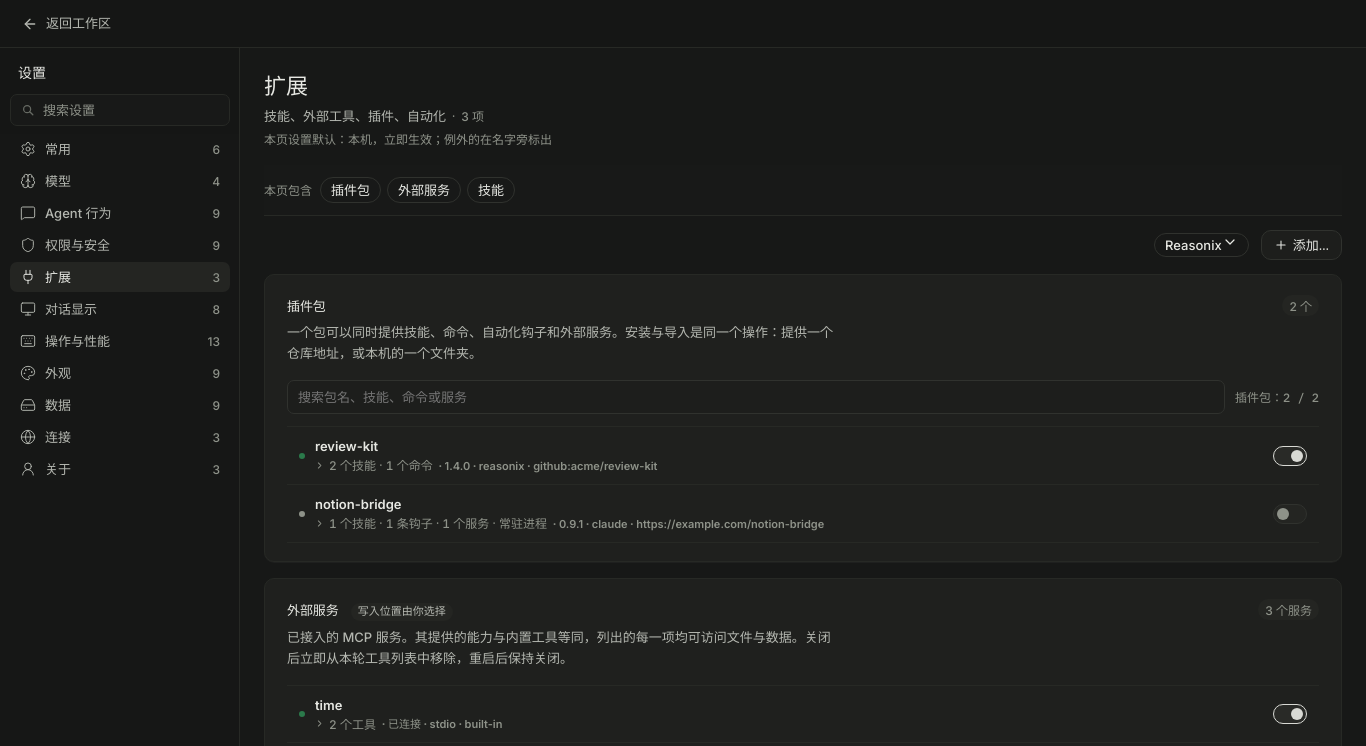
Scenario: allows Escape to dismiss a new-install form and still notifies Settings on completion
Click the button "添加…" at {"x": 1301, "y": 245}, box [1261,230,1342,260]
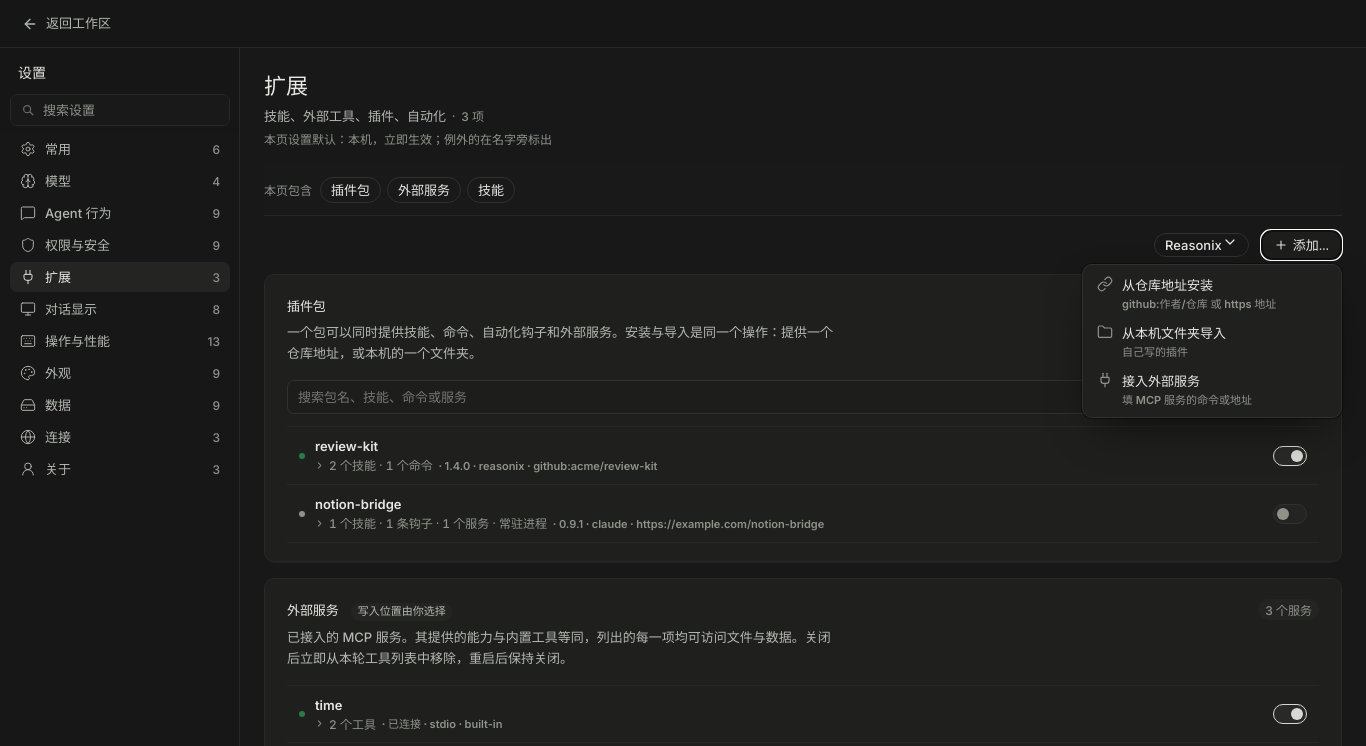
Click the menu item "从仓库地址安装 github:作者/仓库 或 https 地址" at {"x": 1212, "y": 293}, box [1087,269,1337,317]
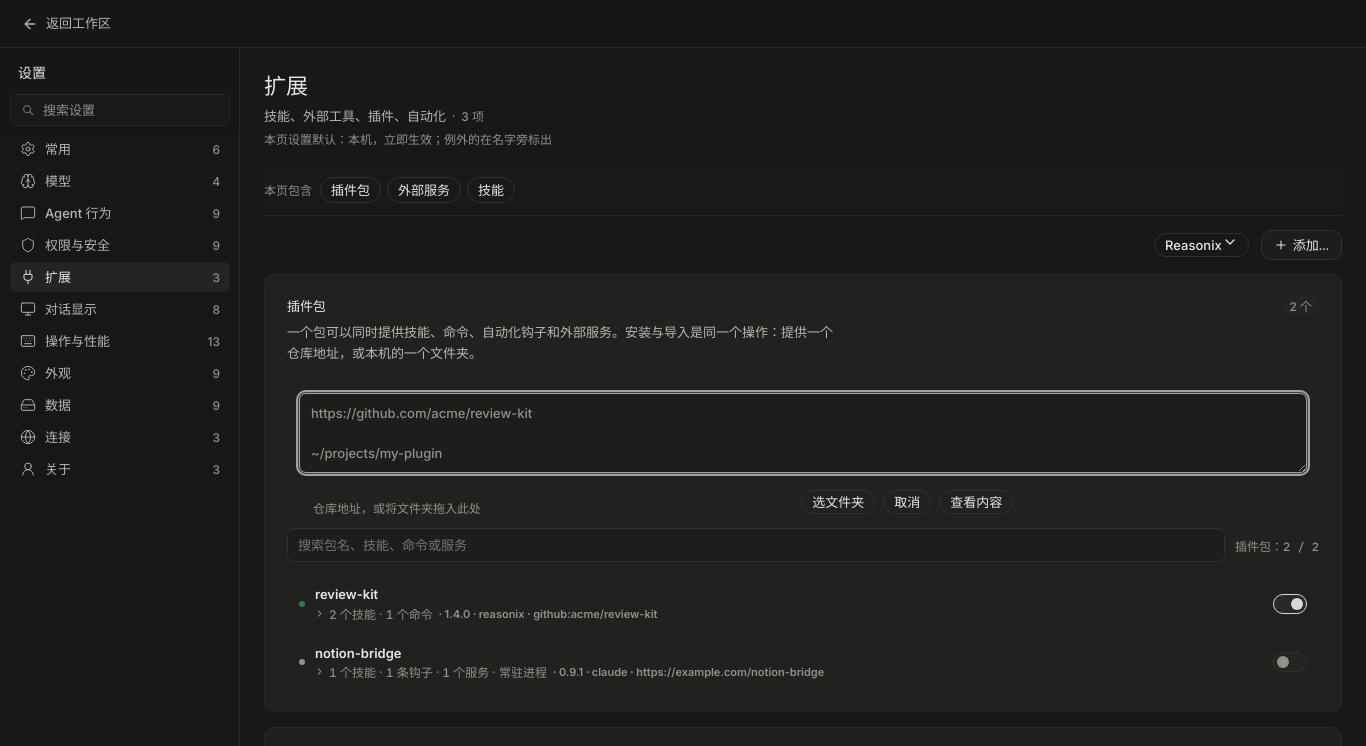
Type "https://github.com/demo/notes-kit" into the text box at {"x": 803, "y": 433}, box [299,393,1307,473]
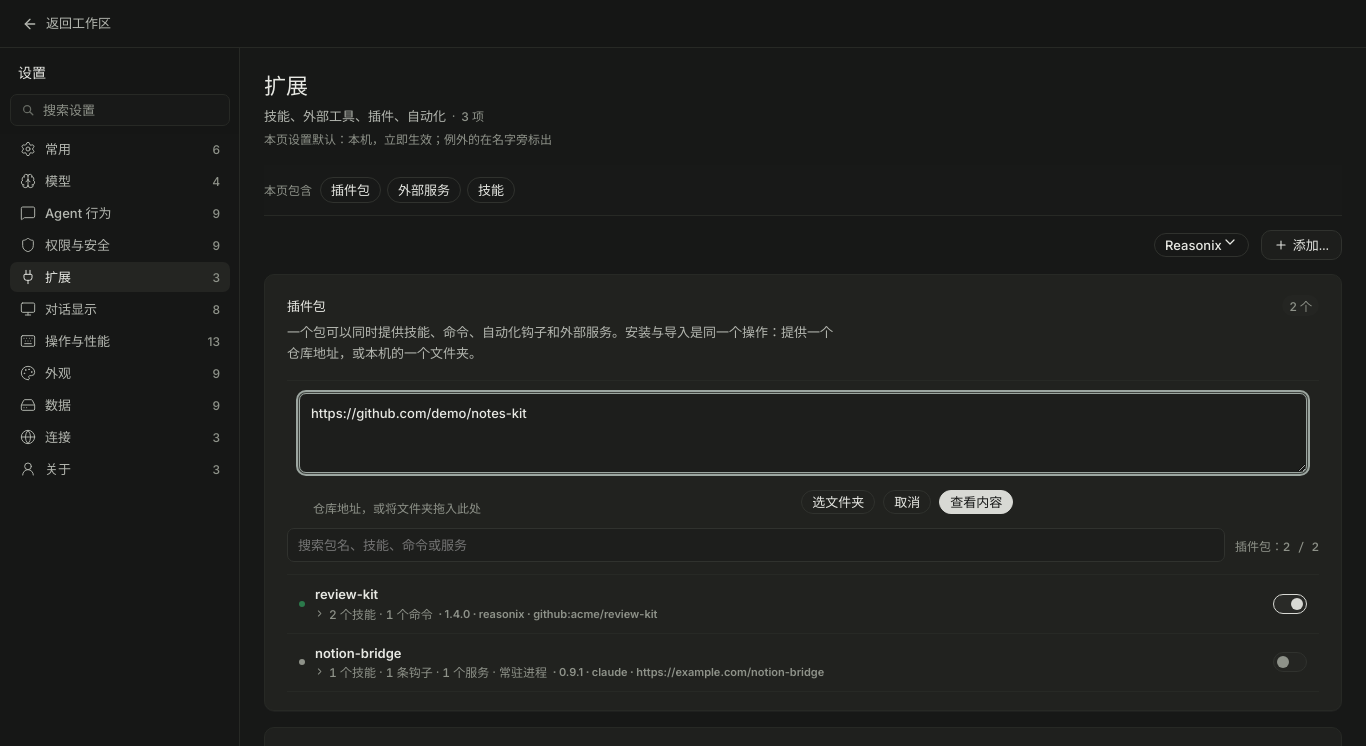
Click the button "查看内容" at {"x": 976, "y": 502}, box [939,490,1013,514]
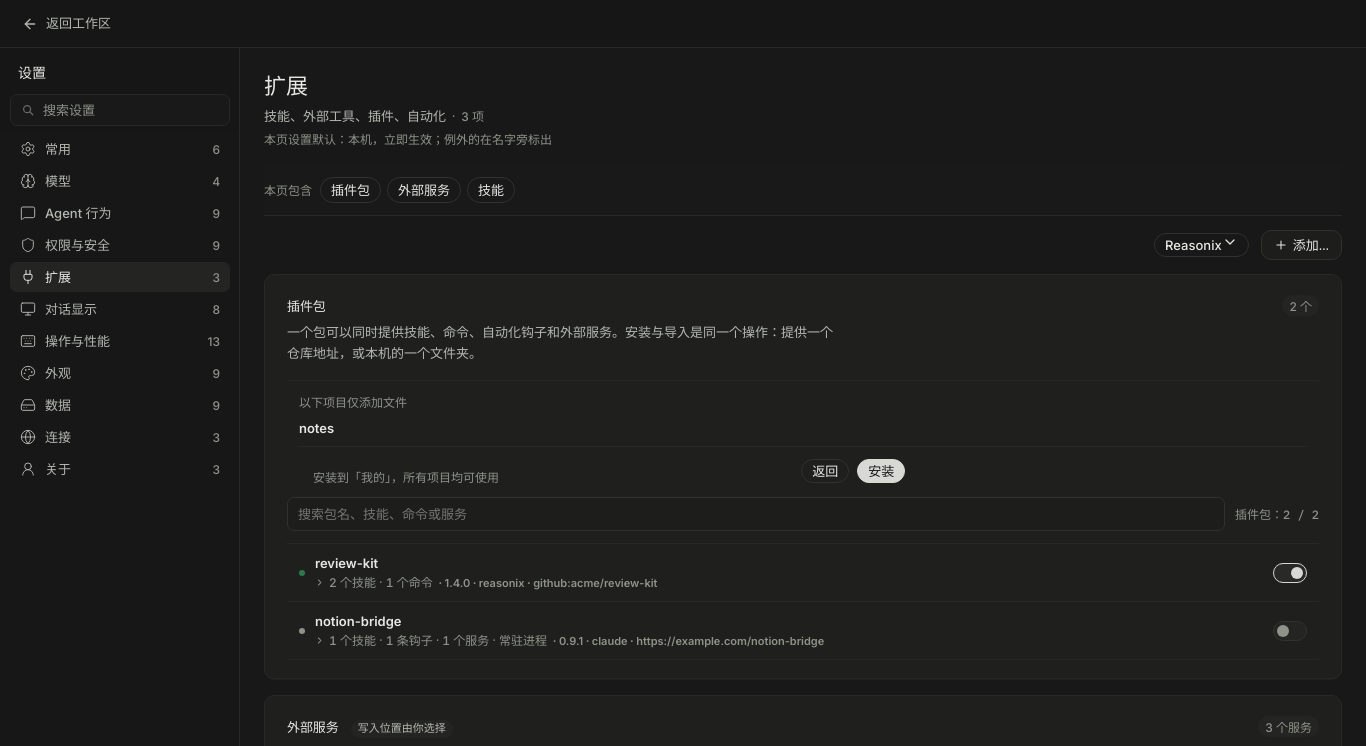
Click the button "安装" at {"x": 881, "y": 471}, box [857,459,905,483]
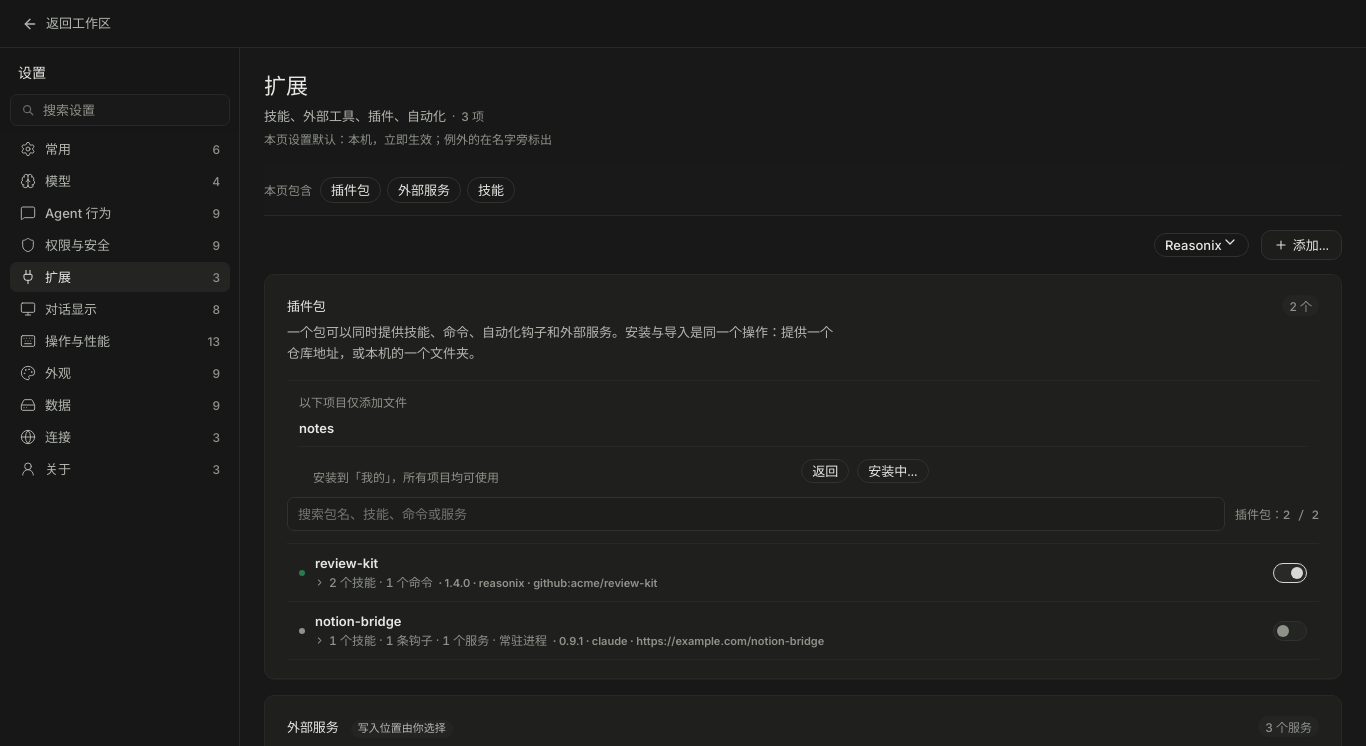
Press Escape
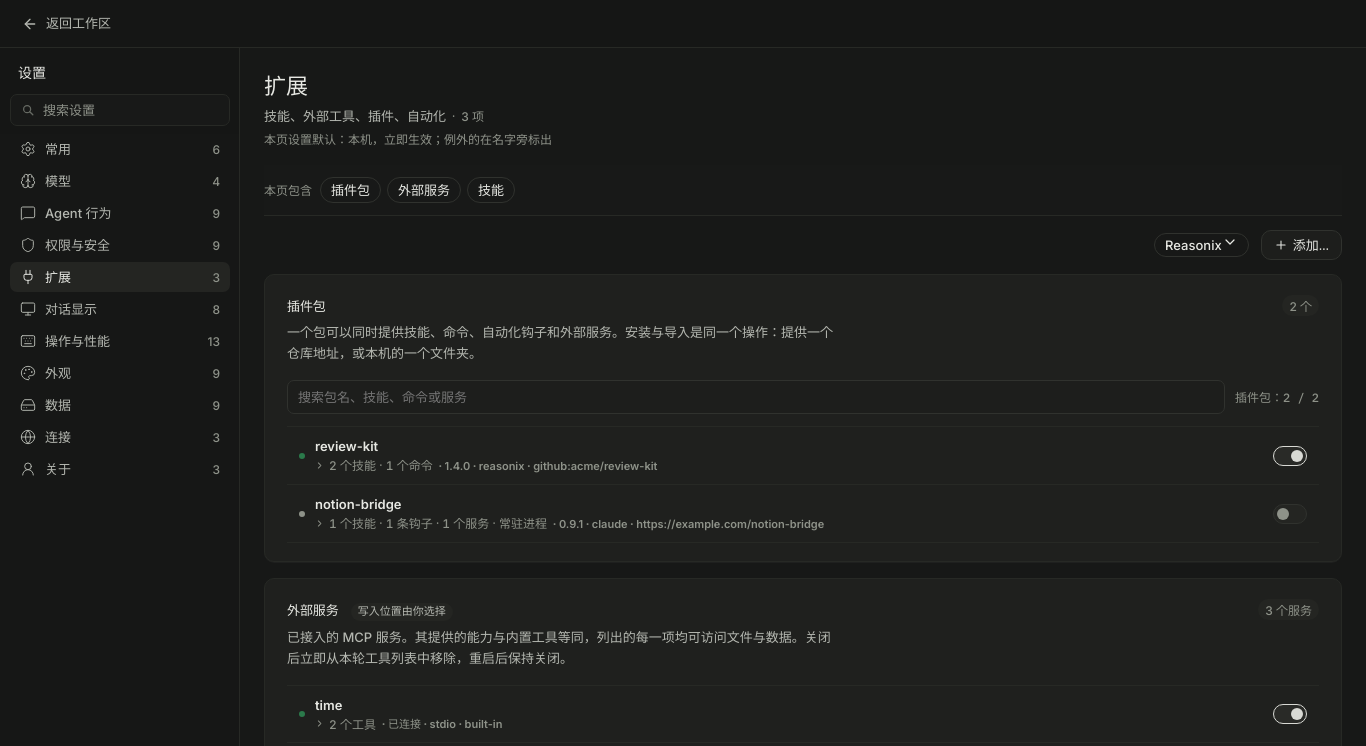
Check: the element with class "addpkg" is gone
